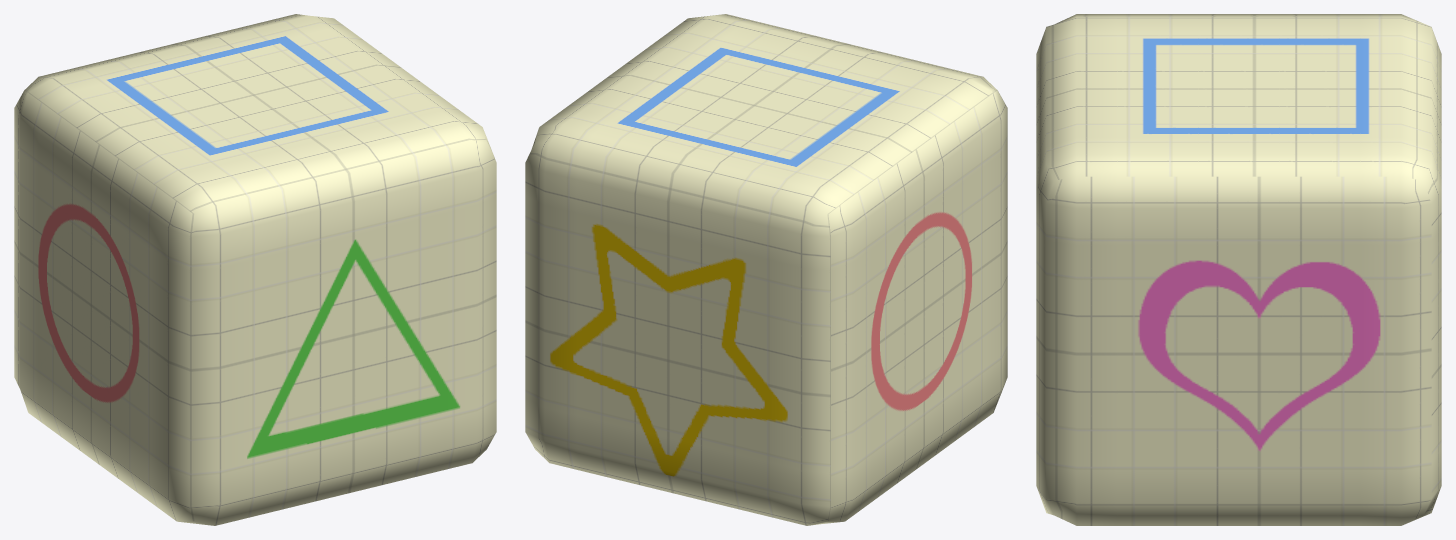
Rendered from dice.fbx.
3 views of the same model, side by side, from view 1: azimuth 30°, elevation 25°; view 2: azimuth 150°, elevation 25°; view 3: azimuth 270°, elevation 25° (orthographic). The views are drawn at different scales.
Visible parts, largest first — view 1: Pathfind_Dice; view 2: Pathfind_Dice; view 3: Pathfind_Dice.
Boxes of the visible parts, left/top/right/bottom form: Pathfind_Dice: left=14, top=14, right=496, bottom=525; Pathfind_Dice: left=525, top=14, right=1007, bottom=525; Pathfind_Dice: left=1036, top=14, right=1441, bottom=525.
Bounding box in the file's own units: 1 × 1 × 1.
1 material, 1 textured.
